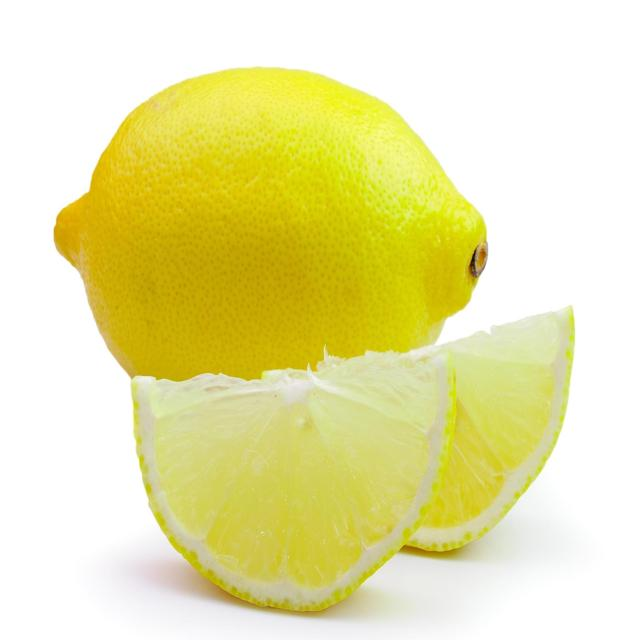lemon: (49, 60, 494, 391), (122, 298, 580, 618)
